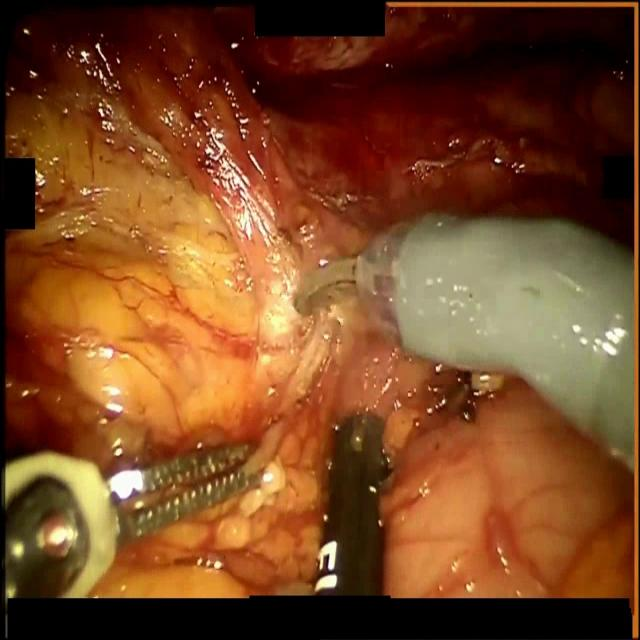surgical-area: (4, 6, 634, 598)
surgical-tool: (292, 209, 634, 474), (5, 442, 262, 598), (314, 412, 392, 595)
